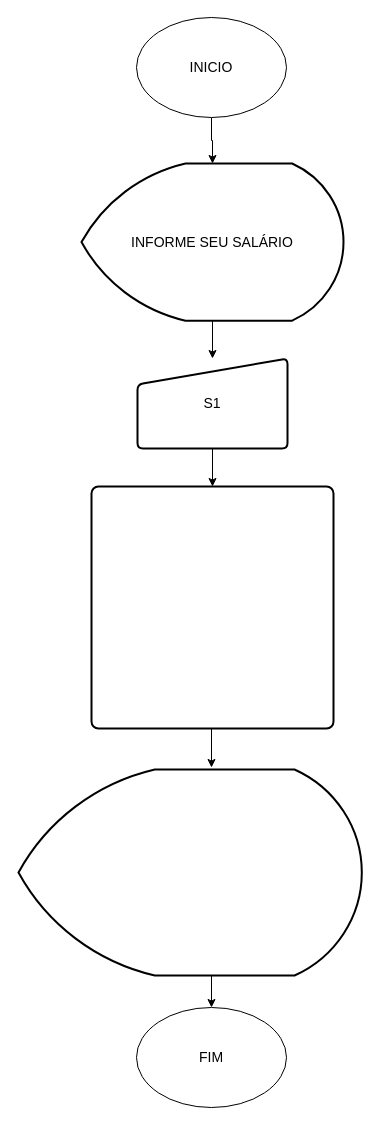
Image size: 380x1125. Some labels were removed from this diagram. Each missing label, with the centre of its shape:
"O SALÁRIO NOVO APÓS APLICAÇÃO DA GRATIFICAÇÃO E DO IMPOSTO É " ,NS1: (189,872)
NS1 <- S1 + (S1 * 0.05) - (S1 * 0.07): (212,607)
